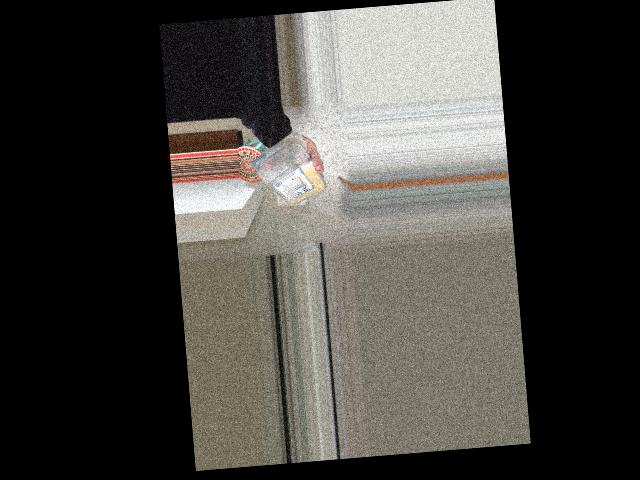cheese: (247, 134, 318, 214)
